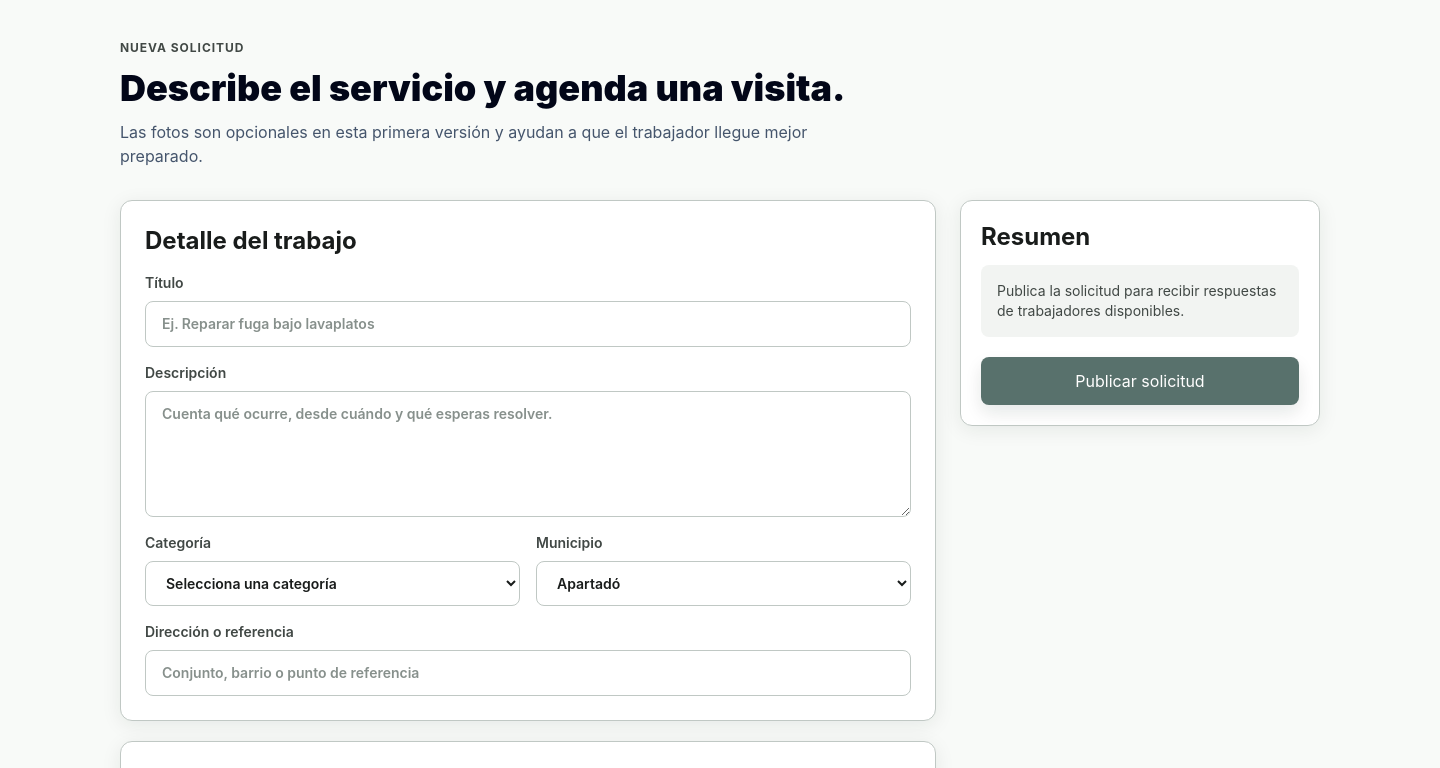
Scenario: ServiceRequestForm › rejects unsupported category and municipality values
Select "Categoría inventada" in the dropdown labelled "Categoría": (332, 584) [145,561,520,606]
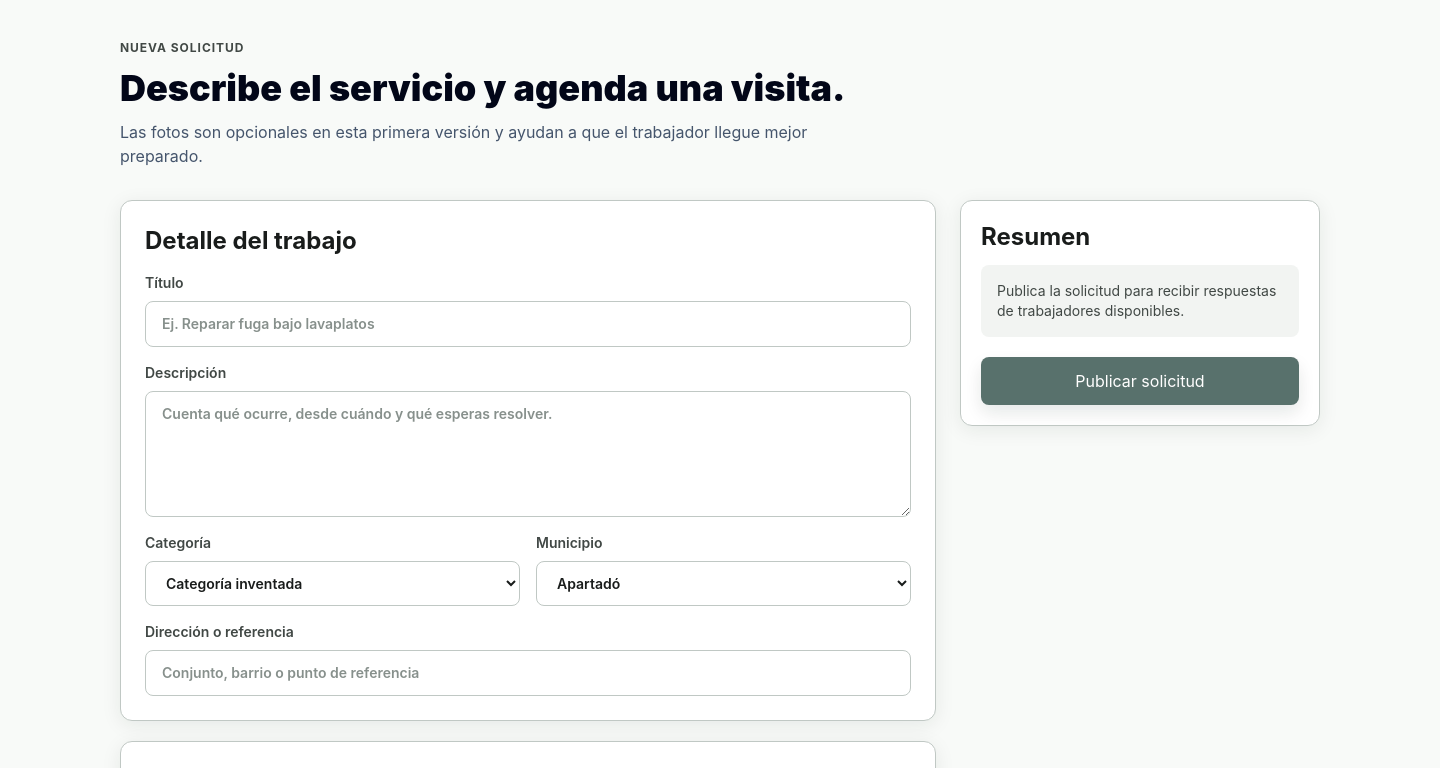
Select "Municipio inventado" in the dropdown labelled "Municipio": (724, 584) [536,561,911,606]
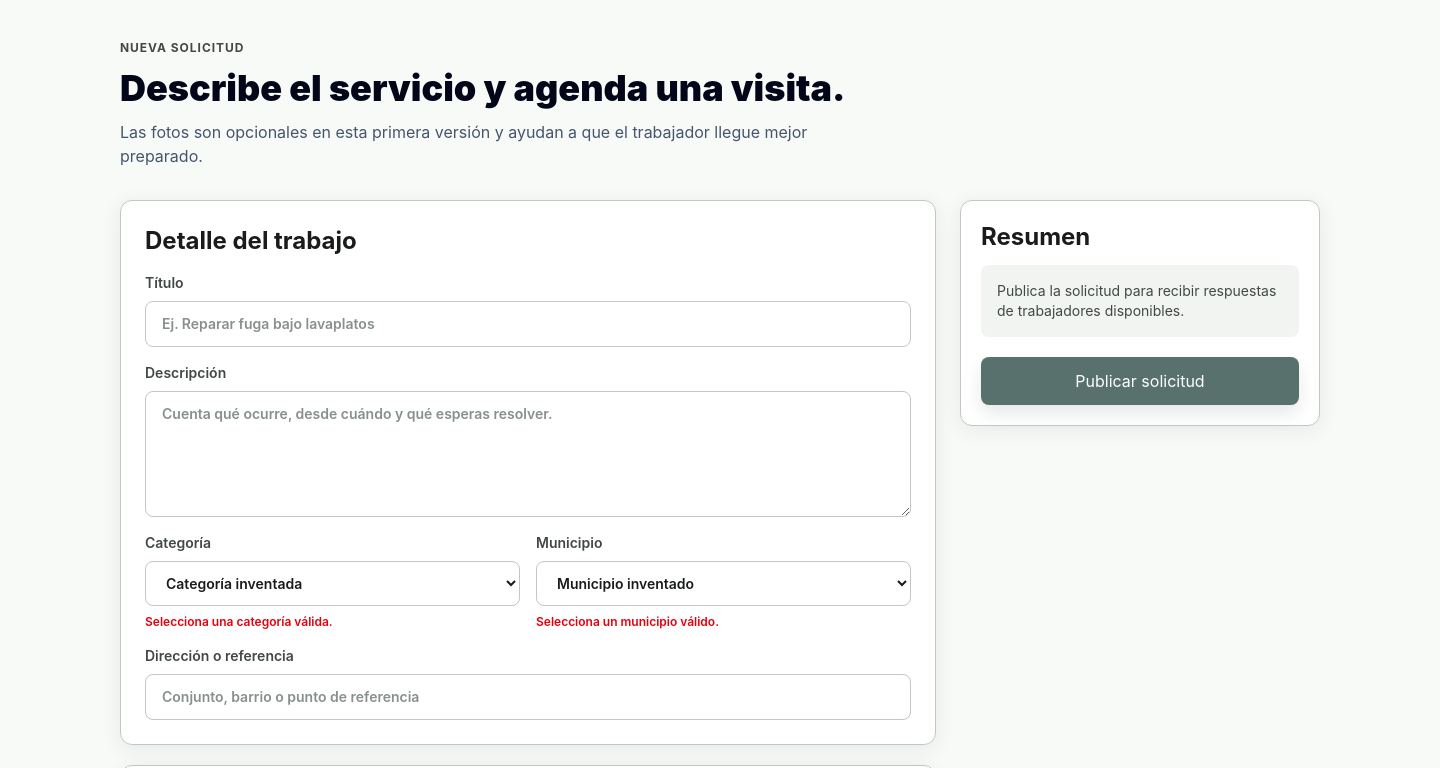
Expected: the text "Selecciona una categoría válida." is shown, [145,614,333,629]
Expected: the text "Selecciona un municipio válido." is shown, [536,614,719,629]
